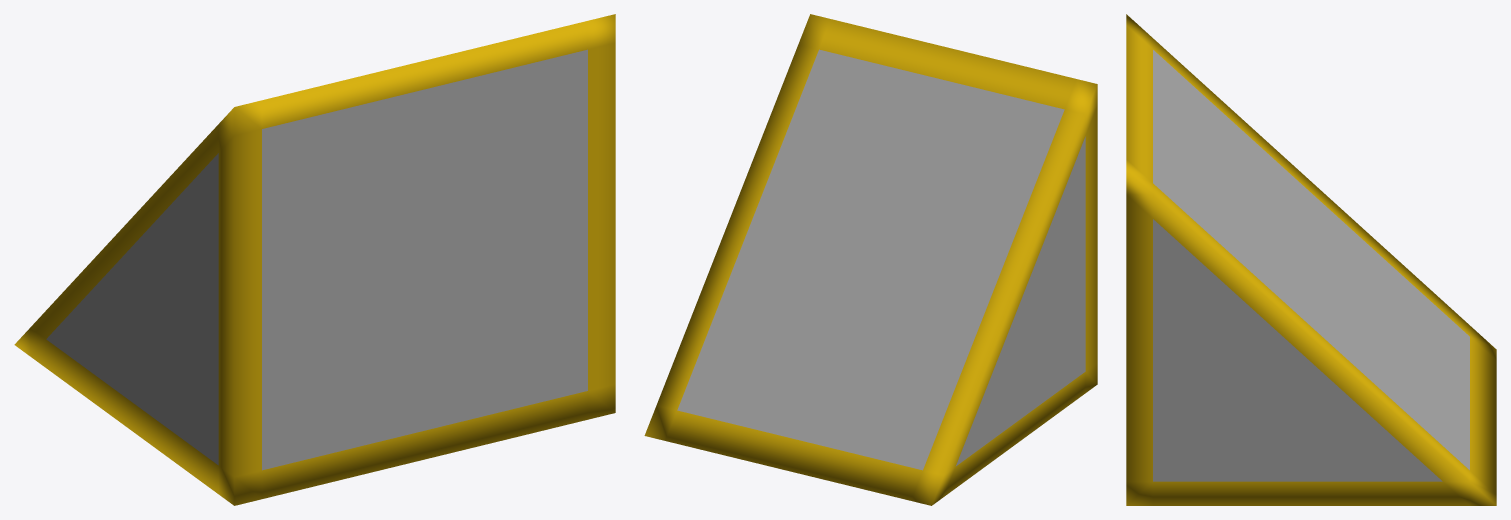
The model's file is RampaBuilding.fbx.
3 renders of one model, left to right at view 1: azimuth 30°, elevation 25°; view 2: azimuth 150°, elevation 25°; view 3: azimuth 270°, elevation 25°, orthographic. The views are drawn at different scales.
Visible parts, largest first — view 1: CristalRampa, Rampa; view 2: CristalRampa, Rampa; view 3: CristalRampa, Rampa.
Boxes of the visible parts, x1=… form: CristalRampa: x1=46, y1=49, x2=587, y2=470; Rampa: x1=14, y1=14, x2=615, y2=505; CristalRampa: x1=677, y1=49, x2=1085, y2=470; Rampa: x1=644, y1=14, x2=1097, y2=505; CristalRampa: x1=1153, y1=50, x2=1469, y2=481; Rampa: x1=1126, y1=14, x2=1496, y2=505.
Size of the model in its own units: 100 by 100 by 100.
